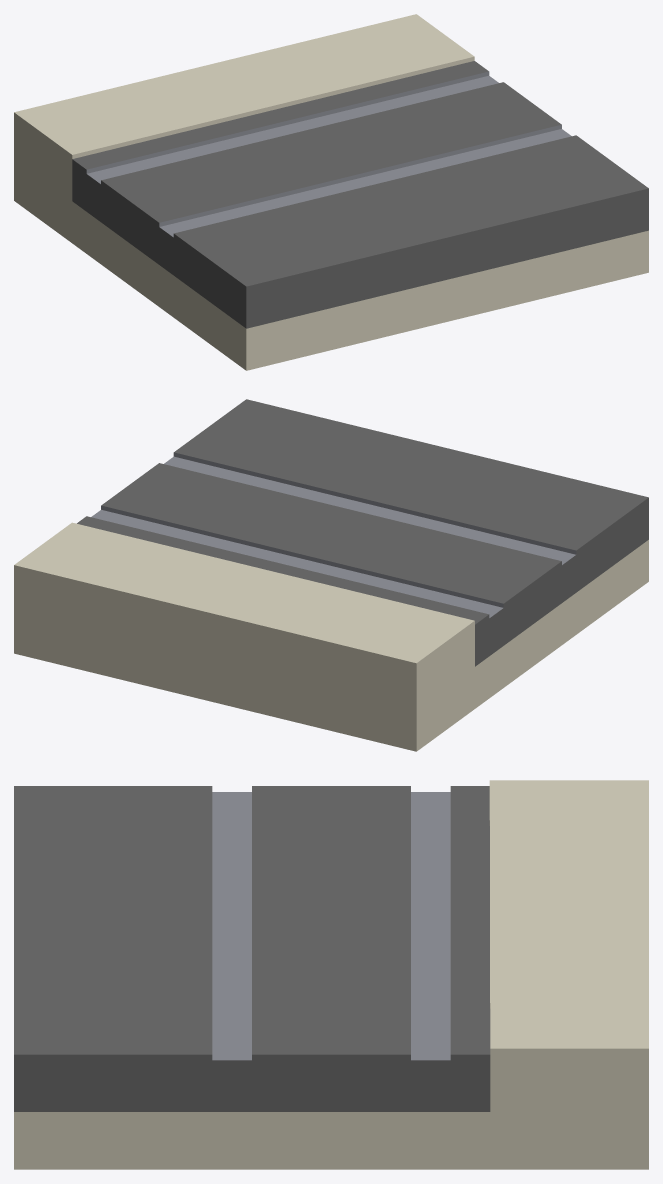
Rendered from tile263.dae.
The picture shows the model from 3 angles, top to bottom: view 1: azimuth 30°, elevation 25°; view 2: azimuth 150°, elevation 25°; view 3: azimuth 270°, elevation 25°; orthographic projection. The views are drawn at different scales.
Parts seen in each view (by area): view 1: tile263; view 2: tile263; view 3: tile263.
Boxes of the visible parts, <box> form: tile263: <box>14,14,648,370</box>; tile263: <box>14,399,648,751</box>; tile263: <box>14,780,648,1169</box>.
Size of the model in its own units: 1 by 0.21 by 1.
